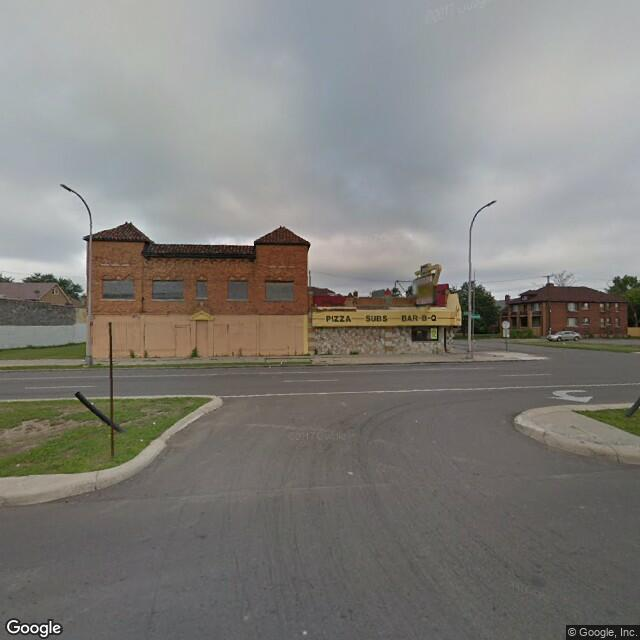litter: (151, 419, 158, 424), (563, 341, 567, 348), (268, 363, 274, 367), (140, 438, 144, 443)
